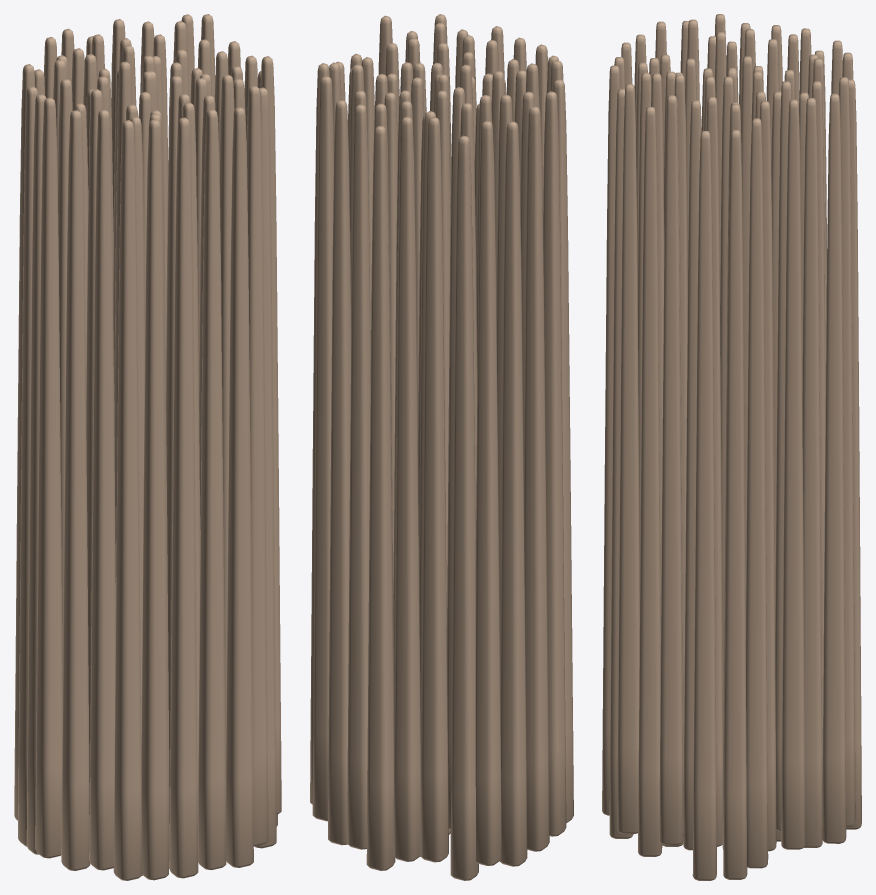
The model's file is CHOPSTICKS_bundle_t2.glb.
3 views of the same model, side by side, from view 1: azimuth 30°, elevation 25°; view 2: azimuth 150°, elevation 25°; view 3: azimuth 270°, elevation 25° (orthographic). The views are drawn at different scales.
Parts seen in each view (by area): view 1: ChopsticksBundle; view 2: ChopsticksBundle; view 3: ChopsticksBundle.
Boxes of the visible parts, x1=… form: ChopsticksBundle: x1=14, y1=14, x2=281, y2=880; ChopsticksBundle: x1=310, y1=14, x2=573, y2=880; ChopsticksBundle: x1=602, y1=14, x2=861, y2=880.
Size of the model in its own units: 0.0767 by 0.2499 by 0.0758.
